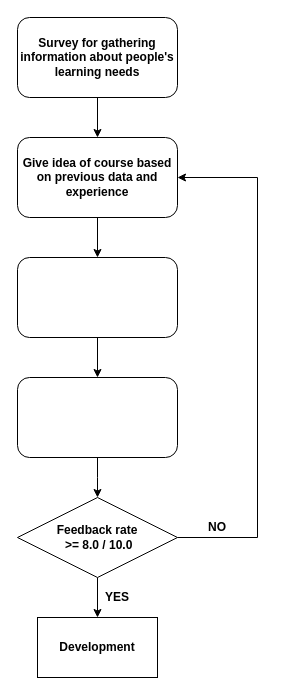
The diagram is 283 pixels wide and 695 high, and some of its shapes have lost their labels. Each missing label, with the centre of its shape:
"Offer free course trials" goes at point 97,297.
"Receive and analyze user feedback" goes at point 97,417.
